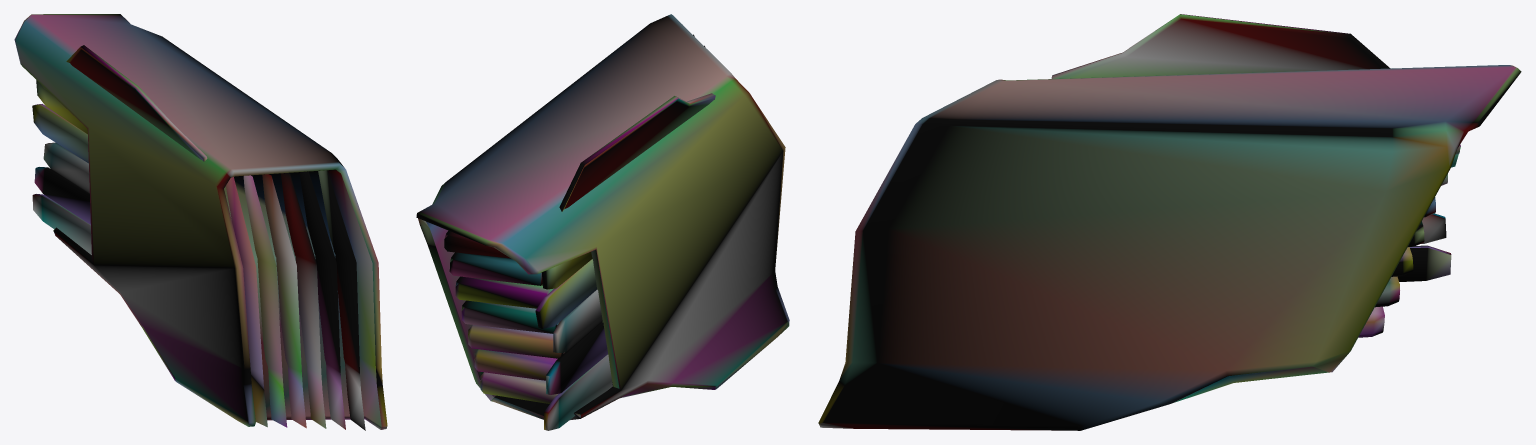
The model's file is ASE_Shrike_Gib_Engine_BR.gltf.
3 renders of one model, left to right at view 1: azimuth 30°, elevation 25°; view 2: azimuth 150°, elevation 25°; view 3: azimuth 270°, elevation 25°, orthographic. The views are drawn at different scales.
Visible parts, largest first — view 1: ASE_Shrike_Gib_Engine_BR; view 2: ASE_Shrike_Gib_Engine_BR; view 3: ASE_Shrike_Gib_Engine_BR.
Boxes of the visible parts, x1,y1,x2,y2 form: ASE_Shrike_Gib_Engine_BR: (14,14,387,430); ASE_Shrike_Gib_Engine_BR: (416,14,789,430); ASE_Shrike_Gib_Engine_BR: (818,14,1521,430).
Size of the model in its own units: 0.3329 by 0.7085 by 1.29.
